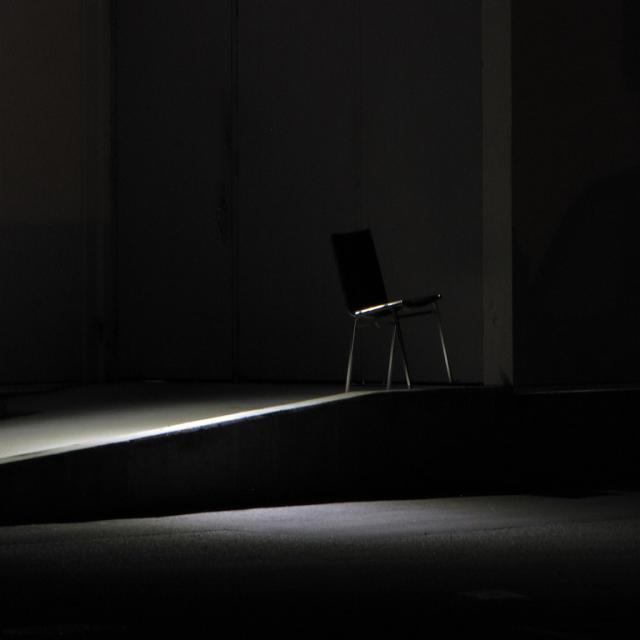chair: (317, 214, 456, 407)
